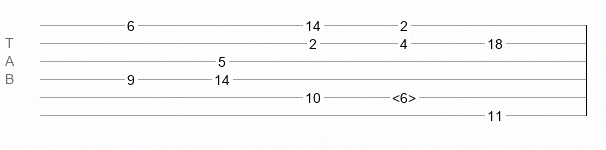10: (305, 90, 321, 100)
11: (487, 108, 503, 118)
14: (214, 72, 230, 82), (305, 18, 321, 28)
18: (487, 36, 503, 46)
2: (309, 36, 317, 46), (400, 18, 408, 28)
4: (400, 36, 408, 46)
5: (218, 54, 226, 64)
6: (127, 18, 135, 28)
9: (127, 72, 135, 82)
harmonic: (392, 90, 416, 100)
